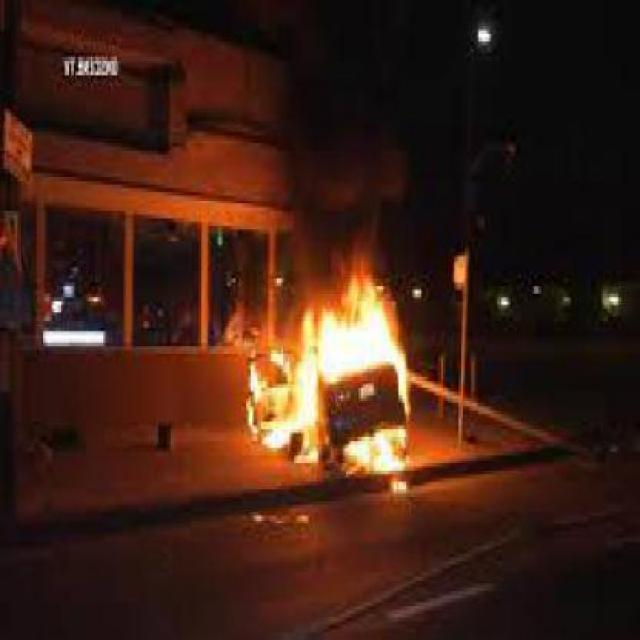Fire: (228, 260, 420, 486)
Smoke: (277, 0, 434, 260)
